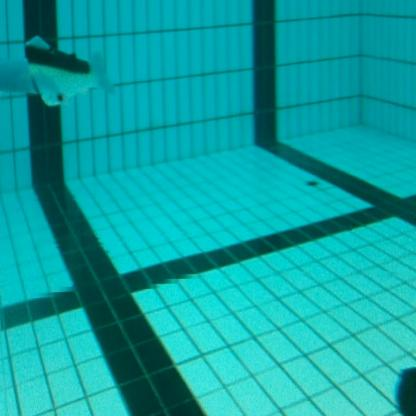tail: (24, 35, 117, 108)
